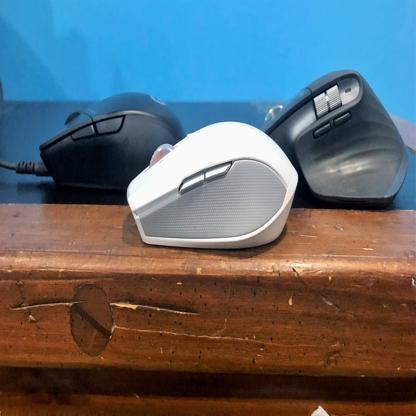not trash: (230, 70, 409, 208), (125, 120, 302, 252), (37, 92, 183, 202)
